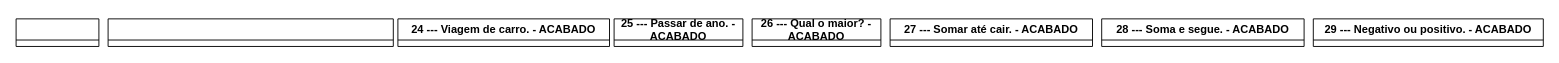
The diagram is 1559 pixels wide and 63 high, and some of its shapes have lost their labels. The box of each missing label's shape, as (x1, y1, x2, y2) in pixels:
23 --- Calcular a média de 4 números. - ACABADO: (107, 18, 393, 46)
Exemplo: (15, 18, 99, 46)
